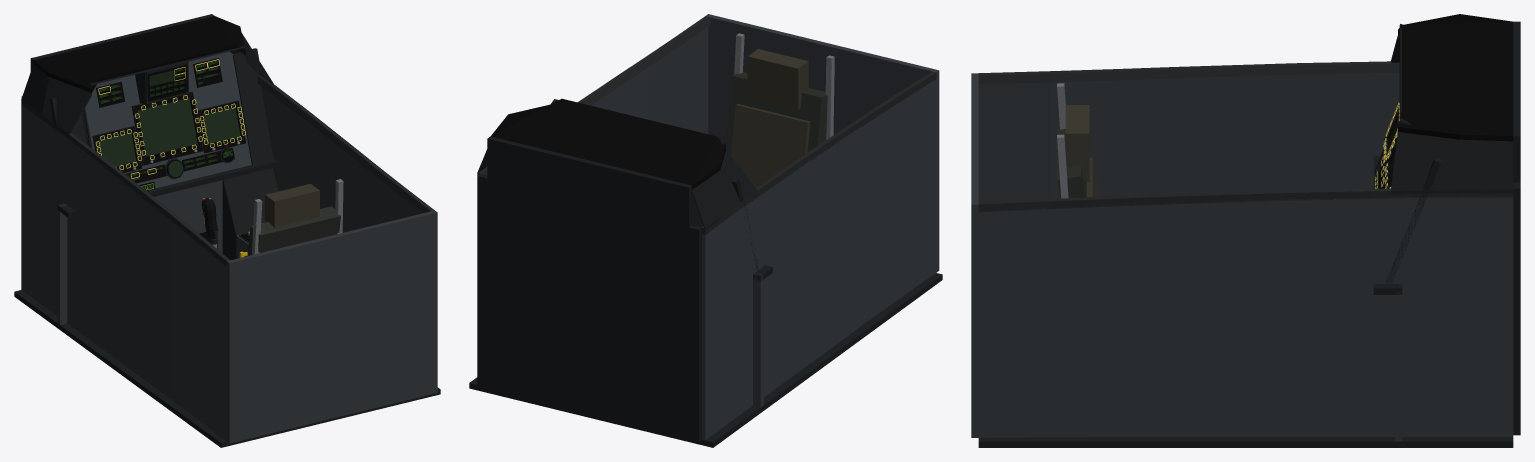
Rendered from cockpit_ea18g_ewo.glb.
The picture shows the model from 3 angles, left to right: view 1: azimuth 30°, elevation 25°; view 2: azimuth 150°, elevation 25°; view 3: azimuth 270°, elevation 25°; orthographic projection. The views are drawn at different scales.
Visible parts, largest first — view 1: panel_grey.005, panel_grey.003, panel_grey.004, black, panel_grey, dark.013, dark.017, screen_third, dark.009, seat_95, frame.001, frame (+15 smaller); view 2: dark, panel_grey.003, panel_grey.005, black, dark.001, panel_grey.004, cushion_96, dark.013, cushion_97, seat_95, frame, frame.001 (+5 smaller); view 3: panel_grey.004, panel_grey.003, black, dark.013, frame.001, frame, dark.005, panel_grey.005, dark.004, dark, cushion_97, black.002 (+5 smaller).
Boxes of the visible parts, x1,y1,x2,y2 form: panel_grey.005: (226, 210, 437, 443); panel_grey.003: (21, 104, 226, 440); panel_grey.004: (261, 86, 422, 232); black: (34, 16, 236, 81); panel_grey: (81, 51, 251, 188); dark.013: (14, 290, 440, 447); dark.017: (222, 168, 278, 260); screen_third: (137, 98, 197, 156); dark.009: (232, 48, 273, 163); seat_95: (247, 206, 340, 255); frame.001: (257, 75, 434, 213); frame: (21, 99, 229, 266); dark: (477, 174, 701, 441); panel_grey.003: (702, 79, 936, 440); panel_grey.005: (705, 14, 939, 272); black: (491, 98, 716, 185); dark.001: (487, 136, 691, 227); panel_grey.004: (591, 27, 708, 134); cushion_96: (731, 104, 810, 187); dark.013: (469, 273, 942, 447); cushion_97: (747, 49, 808, 109); seat_95: (725, 72, 827, 155); frame: (701, 71, 936, 234); frame.001: (477, 16, 711, 175); panel_grey.004: (978, 196, 1513, 437); panel_grey.003: (978, 72, 1399, 201); black: (1401, 21, 1513, 135); dark.013: (978, 437, 1513, 447); frame.001: (978, 188, 1513, 212); frame: (978, 61, 1399, 84); dark.005: (1390, 132, 1459, 194); panel_grey.005: (971, 73, 978, 437); dark.004: (1460, 139, 1513, 193); dark: (1513, 182, 1520, 435); cushion_97: (1065, 105, 1089, 181); black.002: (1398, 113, 1513, 141).
Bounding box in the file's own units: 0.92 × 0.9575 × 1.54.
25 materials, 6 textured.
